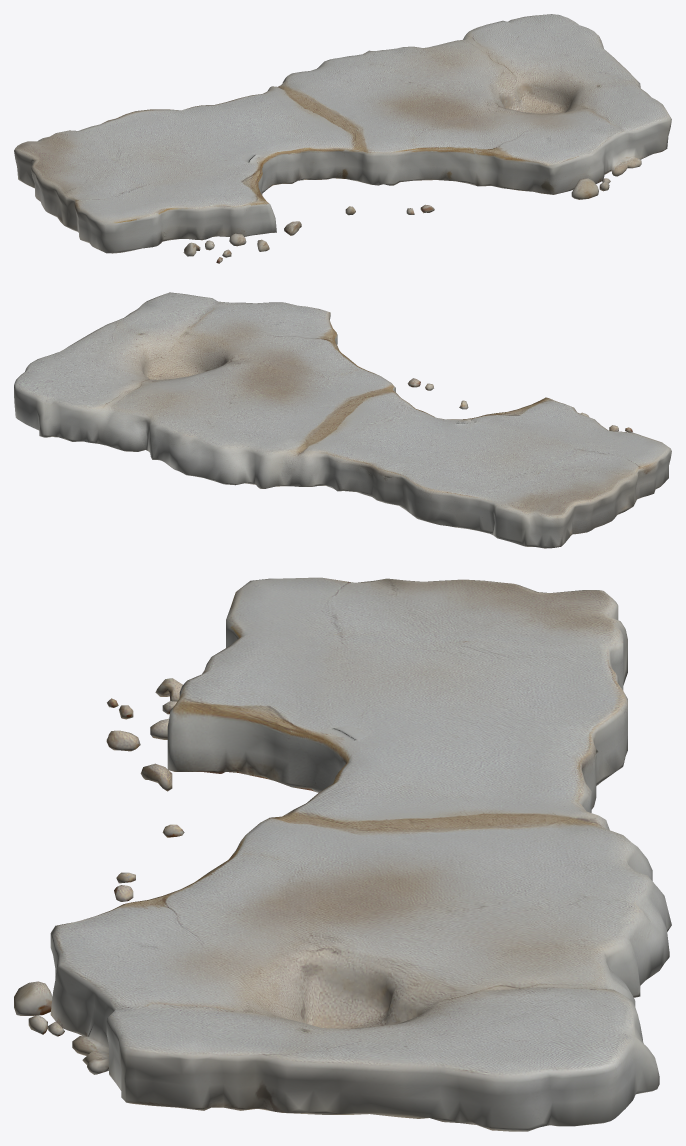
The model's file is debris_concrete_3.glb.
3 views of the same model, one above another, from view 1: azimuth 30°, elevation 25°; view 2: azimuth 150°, elevation 25°; view 3: azimuth 270°, elevation 25° (orthographic). The views are drawn at different scales.
Bounding box in the file's own units: 1.91 × 0.1213 × 1.06.
Materials: 1 (1 with a texture image).
